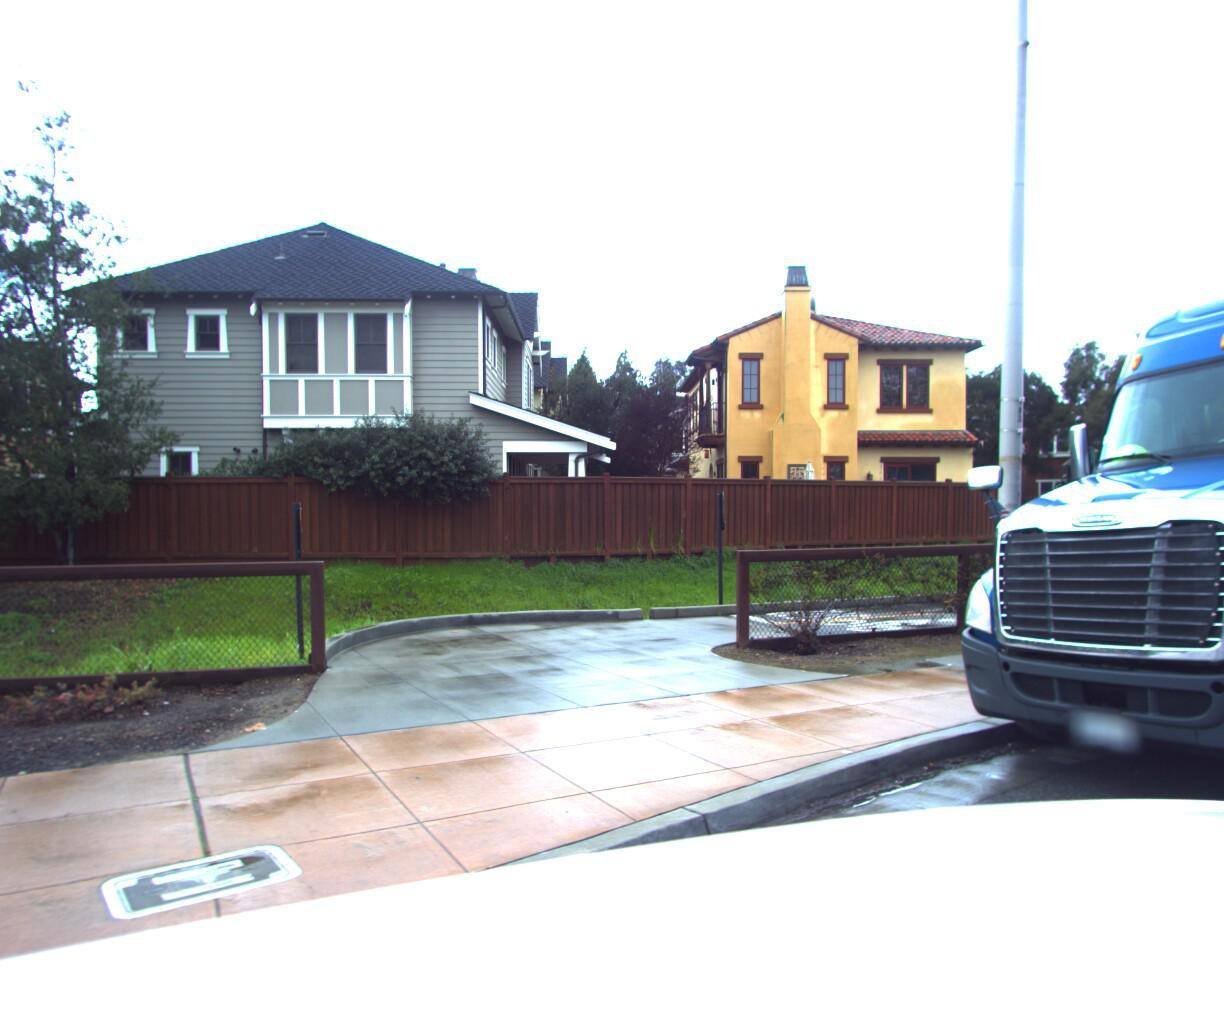truck: (884, 0, 1224, 918)
